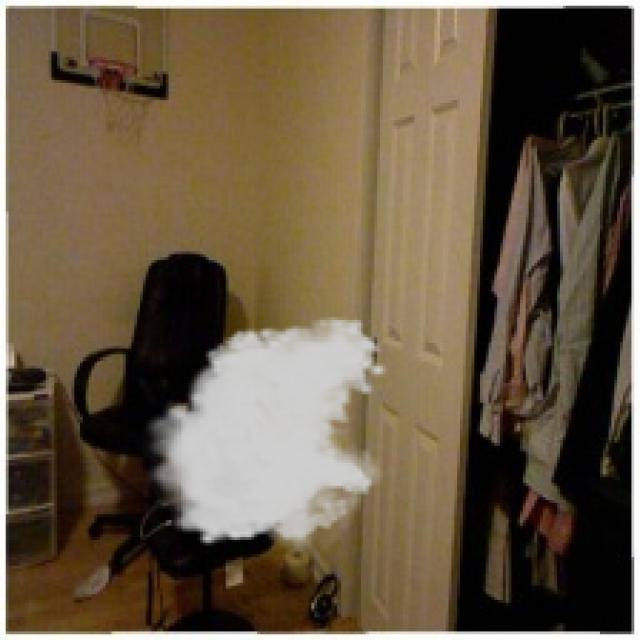Smoke: (140, 314, 389, 560)
